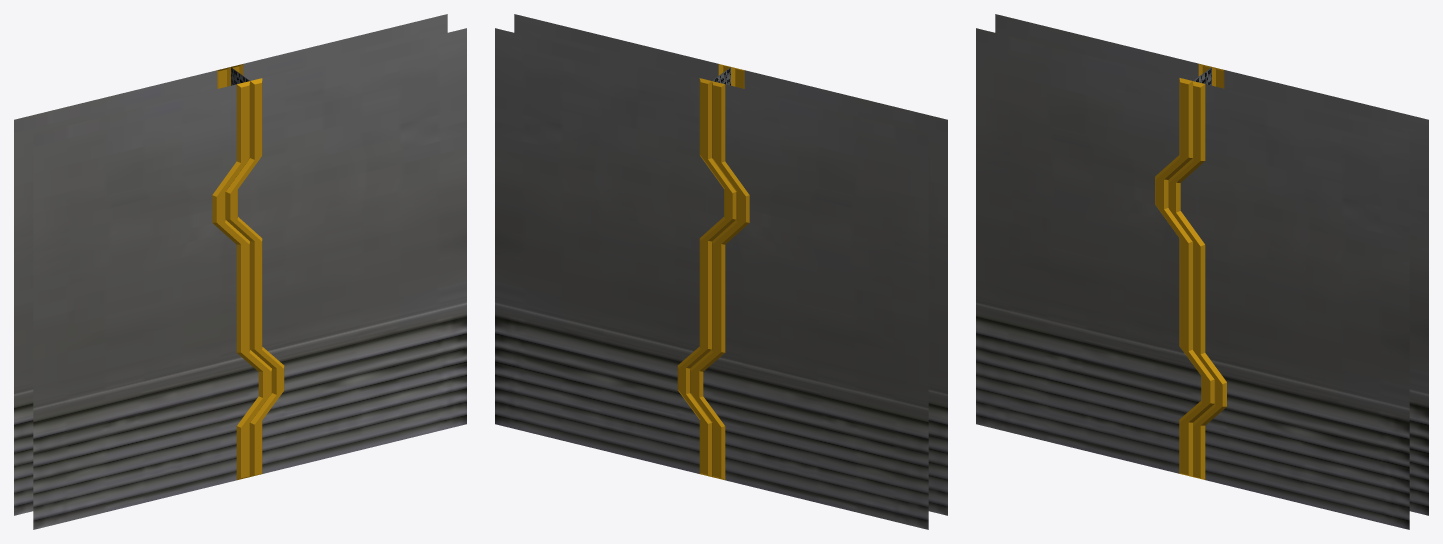
The model's file is Door_big_Small.FBX.
3 views of the same model, side by side, from view 1: azimuth 30°, elevation 25°; view 2: azimuth 150°, elevation 25°; view 3: azimuth 330°, elevation 25° (orthographic).
Visible parts, largest first — view 1: Door_big_small_L_mesh, Door_Big_small_R_mesh; view 2: Door_big_small_L_mesh, Door_Big_small_R_mesh; view 3: Door_Big_small_R_mesh, Door_big_small_L_mesh.
Boxes of the visible parts, x1,y1,x2,y2 form: Door_big_small_L_mesh: (14, 67, 271, 529); Door_Big_small_R_mesh: (225, 14, 466, 476); Door_big_small_L_mesh: (690, 67, 947, 529); Door_Big_small_R_mesh: (495, 14, 736, 476); Door_Big_small_R_mesh: (1168, 67, 1428, 529); Door_big_small_L_mesh: (976, 14, 1214, 476).
Size of the model in its own units: 600 by 524 by 54.21.
3 materials, 3 textured.
